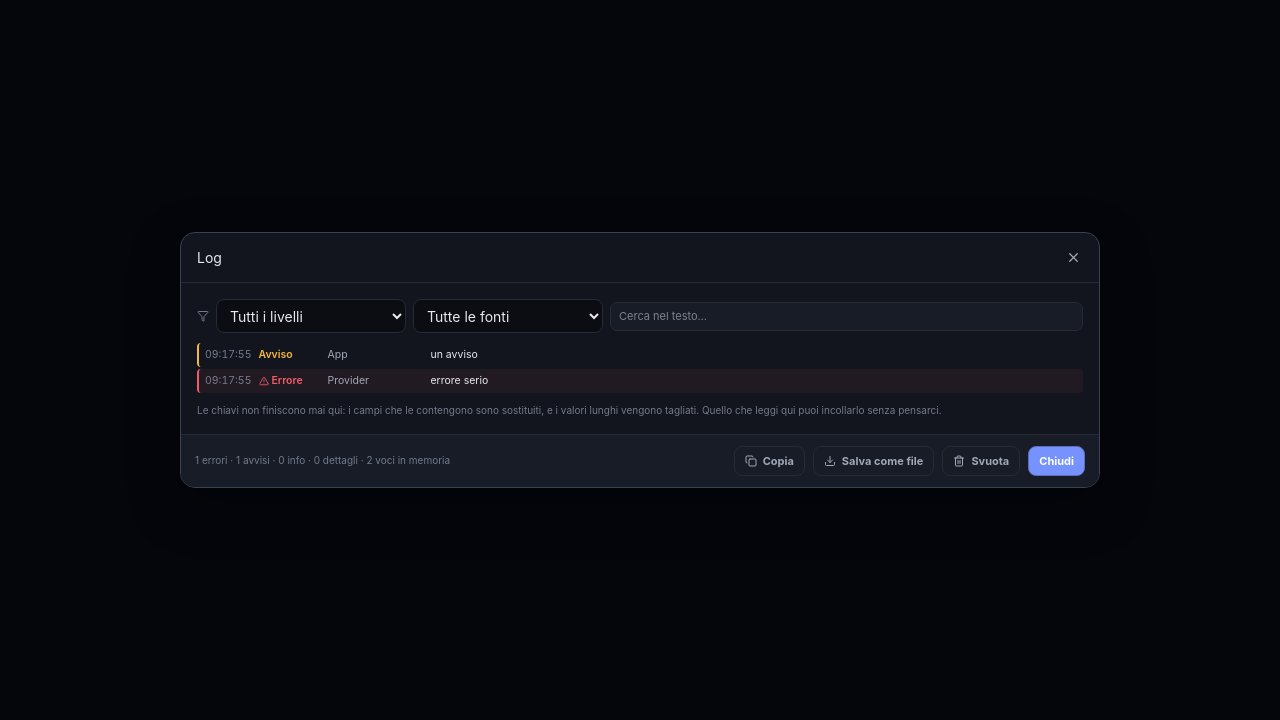
il pannello del registro › filtra per livello
This screenshot has width=1280, height=720.
Select "Solo errori" in the dropdown named "Level". click: (311, 316)
box: [216,299,406,333]
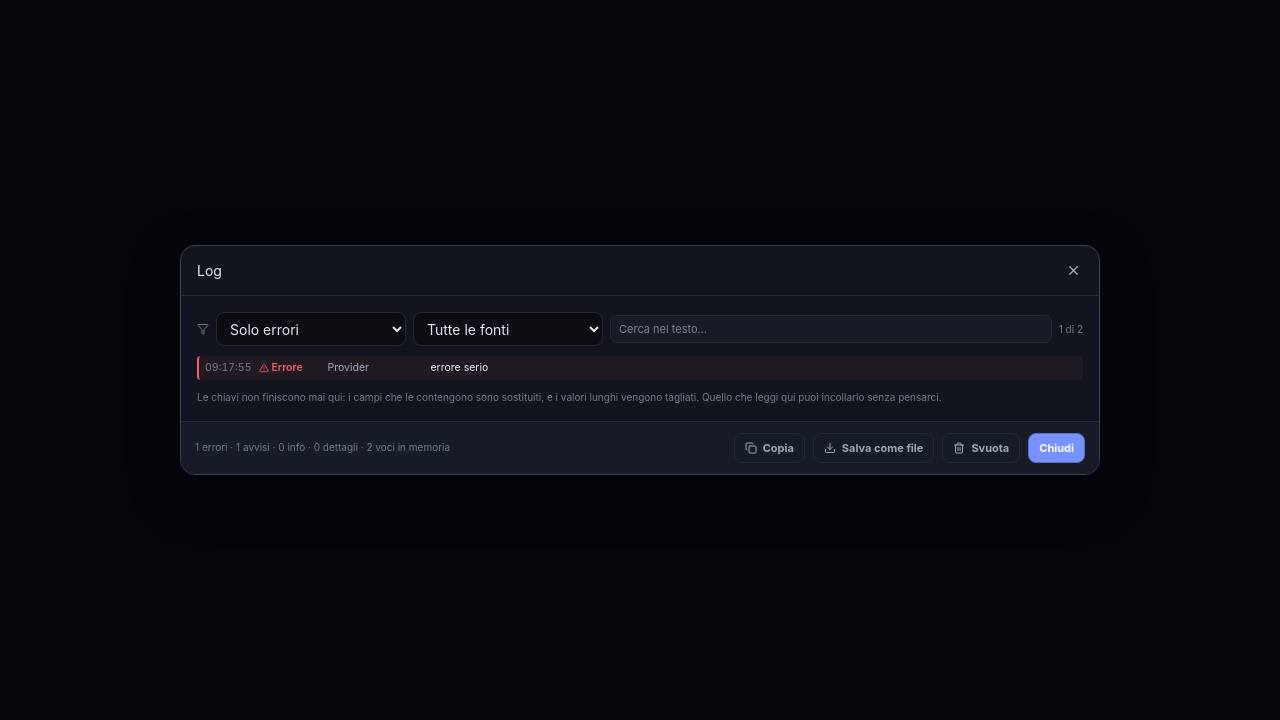
Expected: the text "errore serio" is shown, [430,361,488,374]
Expected: the text "un avviso" is gone
